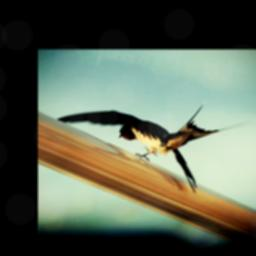Swallow: (54, 102, 250, 193)
